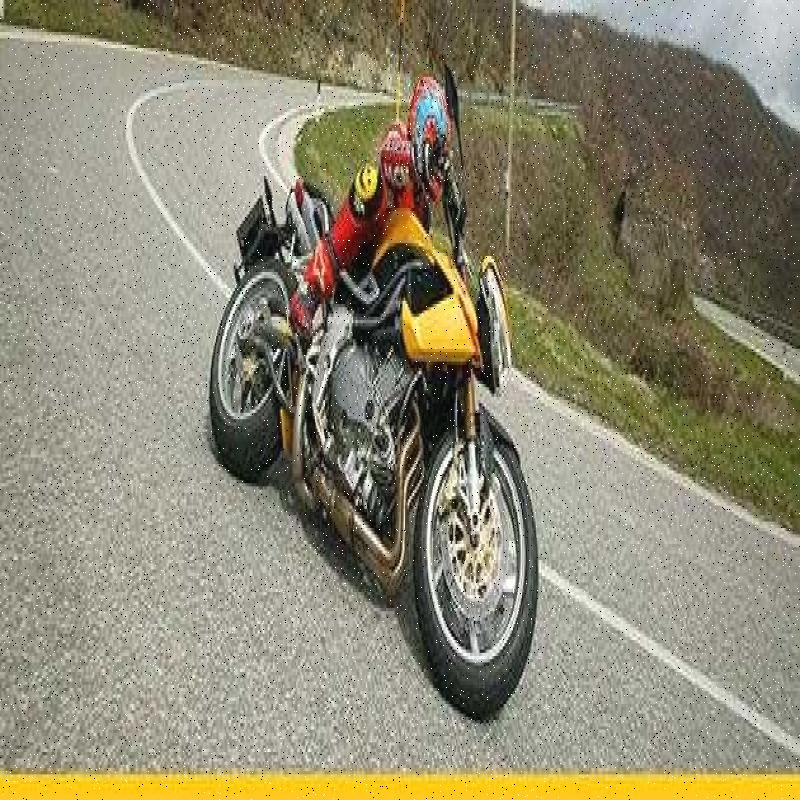bike: (179, 113, 551, 712)
